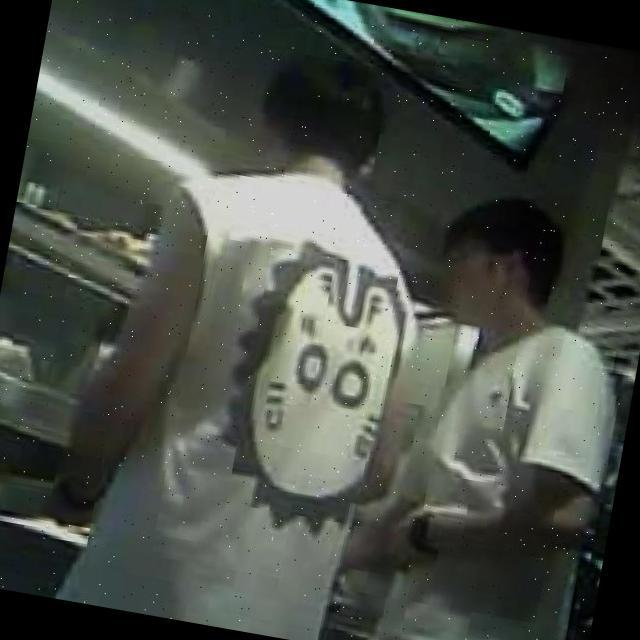person: (36, 24, 463, 640), (335, 178, 640, 640)
